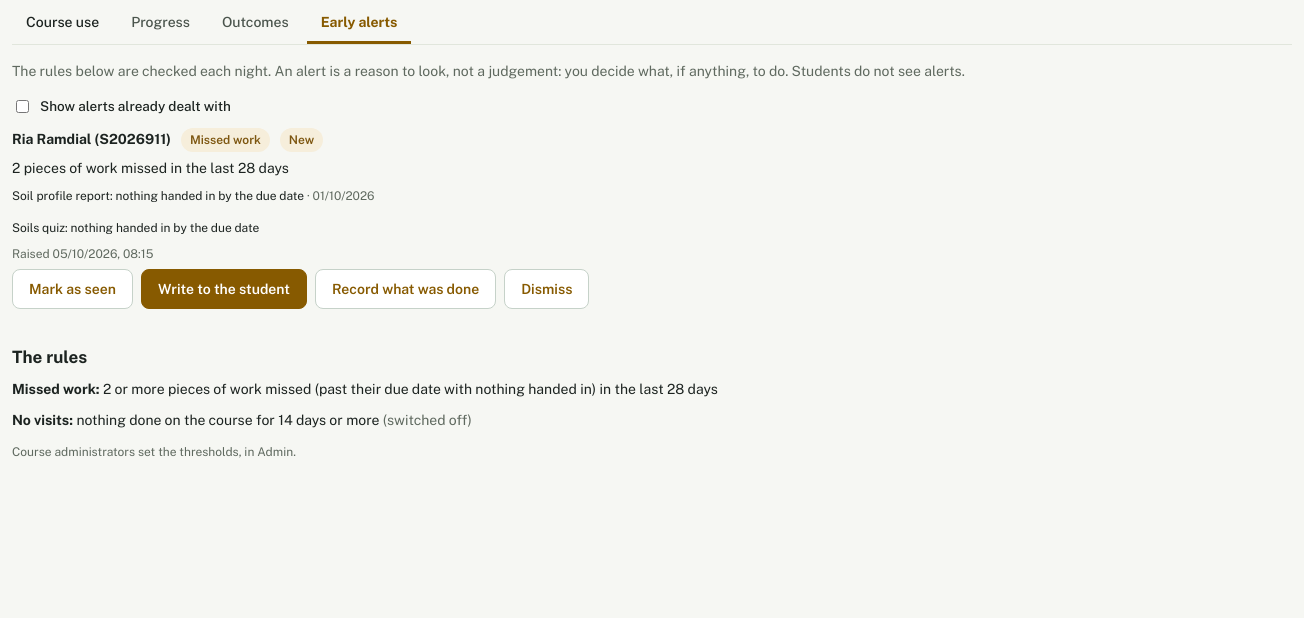
early alerts (item 6.05) › records what was done, says why a write failed, and shows handled alerts when asked
Click the button "Record what was done".
click(406, 289)  # box 315,269 -> 496,309
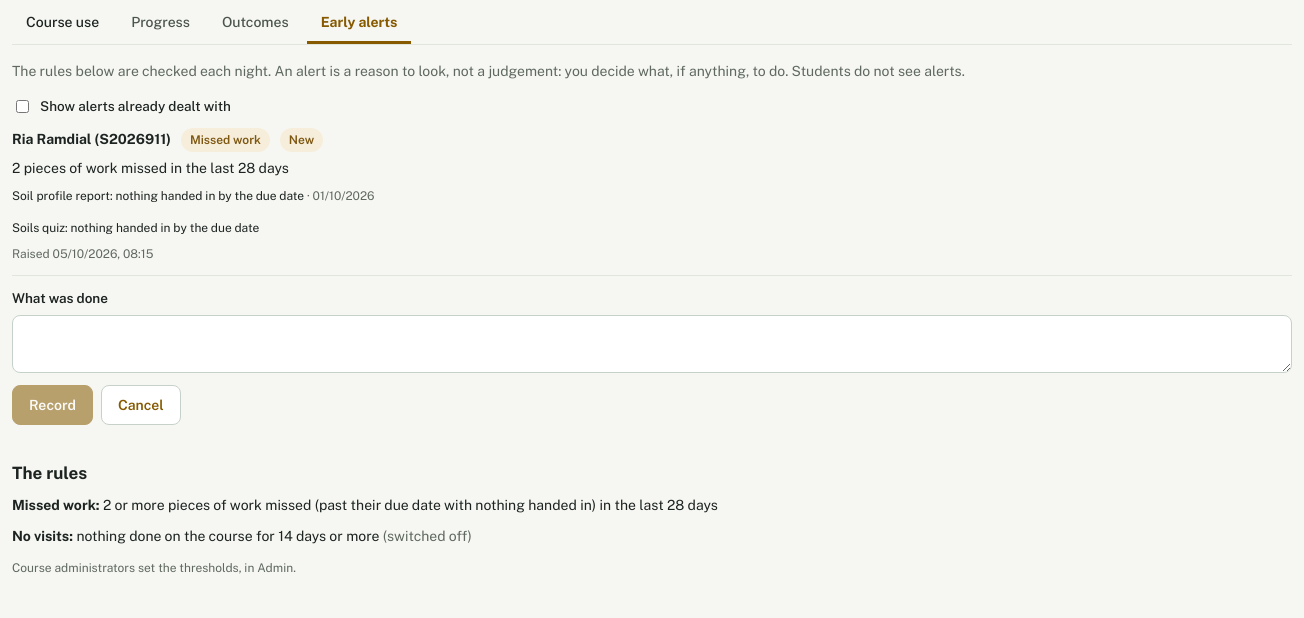
Type "Spoke after class" into the text box labelled "What was done".
click(652, 344); type("Spoke after class")  # box 12,314 -> 1292,373
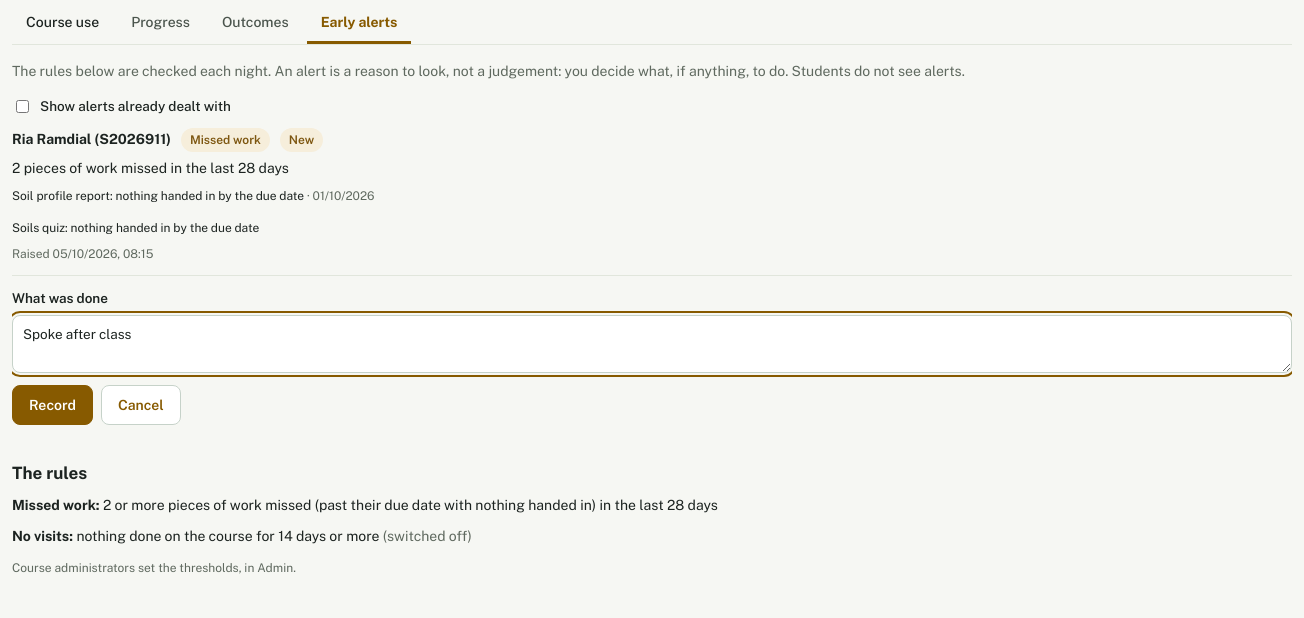
Click the button "Record".
click(52, 405)  # box 12,385 -> 93,425
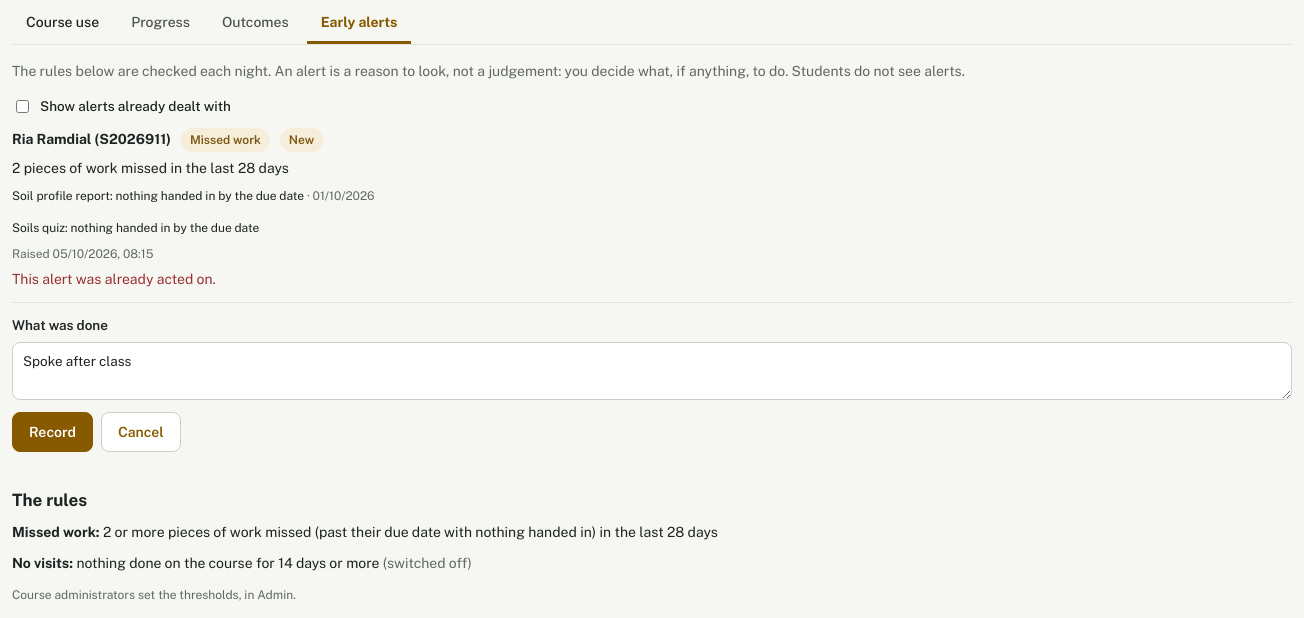
Expected: the message reads "This alert was already acted on.", 12,271 -> 216,287
Click the button "Cancel".
click(141, 432)  # box 101,412 -> 181,452
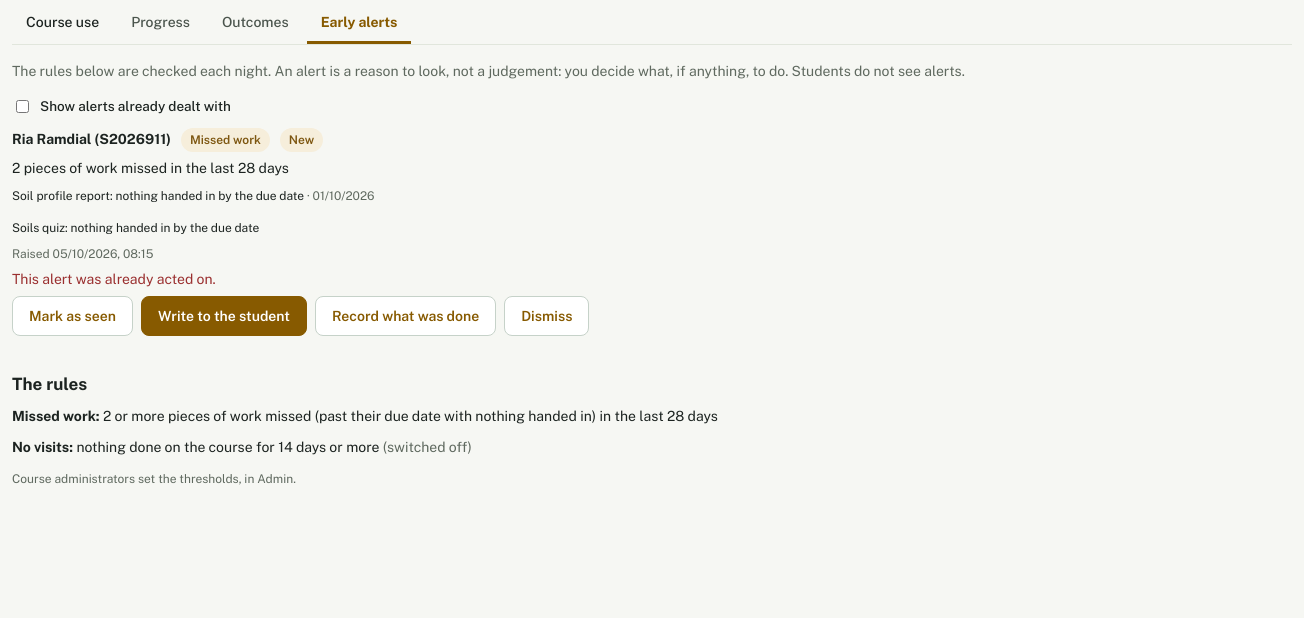
Click the checkbox labelled "Show alerts already dealt with".
click(22, 106)  # box 16,100 -> 29,113
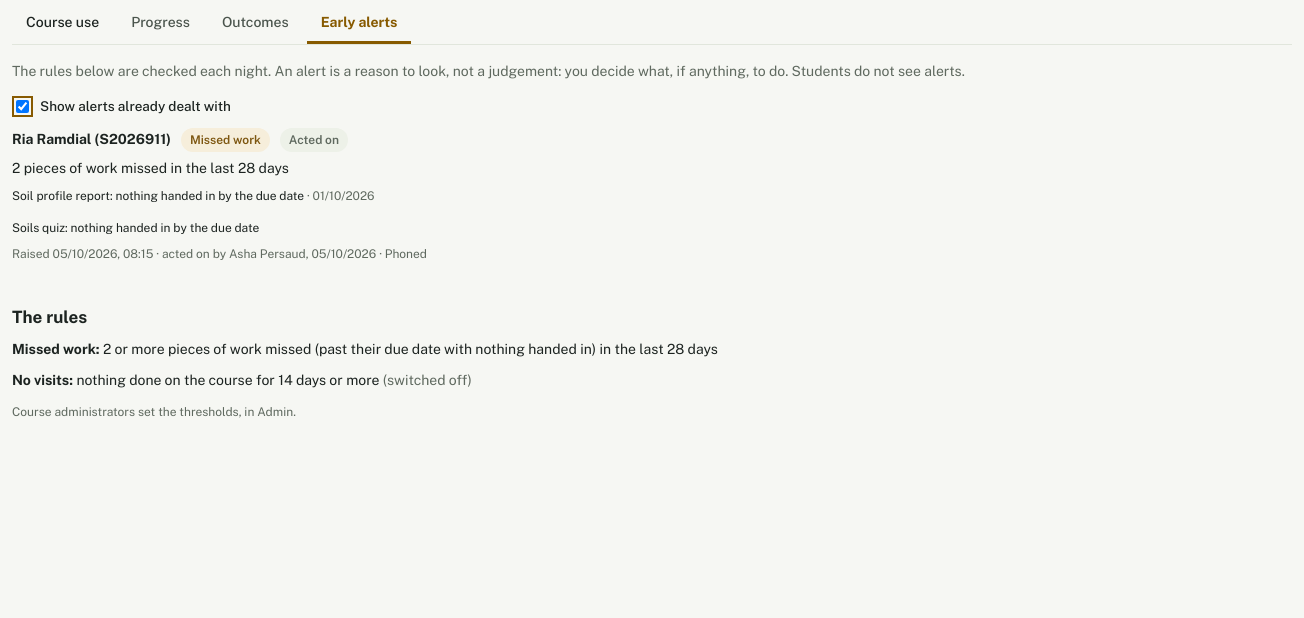
Expected: the text "acted on by Asha Persaud, 05/10/2026 · Phoned" is shown, 12,247 -> 427,261
Expected: the button "Dismiss" is gone
